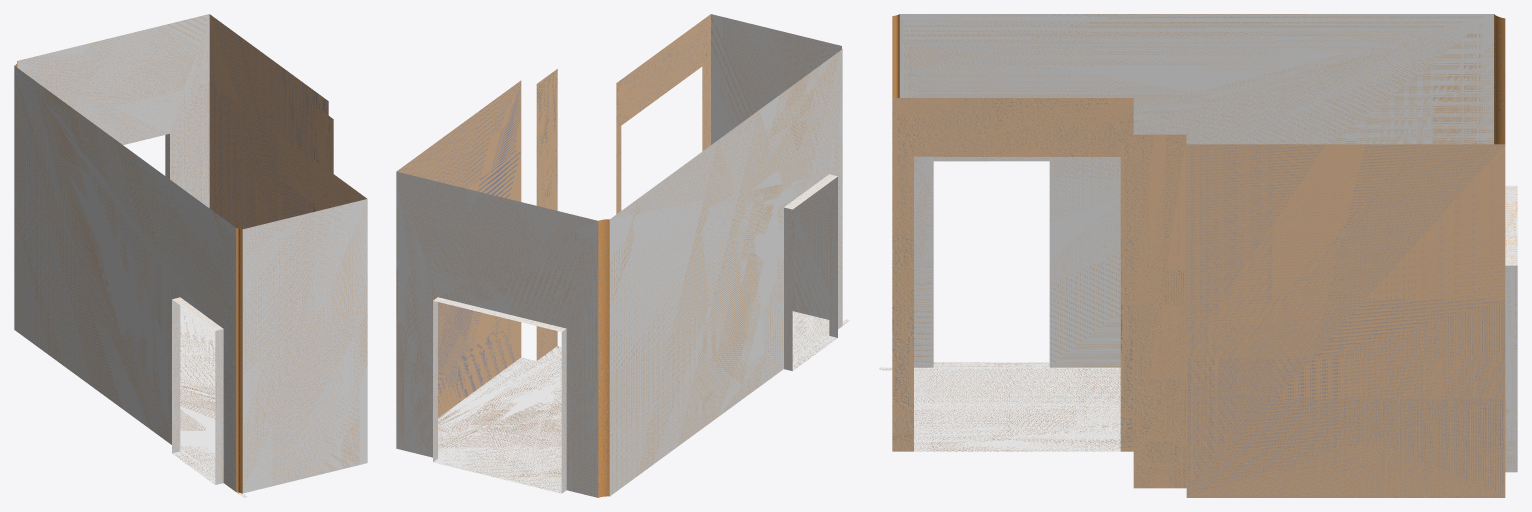
File: COM042.obj
3 views of the same model, side by side, from view 1: azimuth 30°, elevation 25°; view 2: azimuth 150°, elevation 25°; view 3: azimuth 270°, elevation 25° (orthographic). The views are drawn at different scales.
Visible parts, largest first — view 1: Mesh1 COM042 Model; view 2: Mesh1 COM042 Model; view 3: Mesh1 COM042 Model.
Boxes of the visible parts, box(x1,y1,x2,y2) form: Mesh1 COM042 Model: box(14, 14, 367, 497); Mesh1 COM042 Model: box(396, 14, 850, 497); Mesh1 COM042 Model: box(879, 14, 1517, 497).
Size of the model in its own units: 2.96 by 3.6 by 5.89.
Materials: 6 (2 with a texture image).
